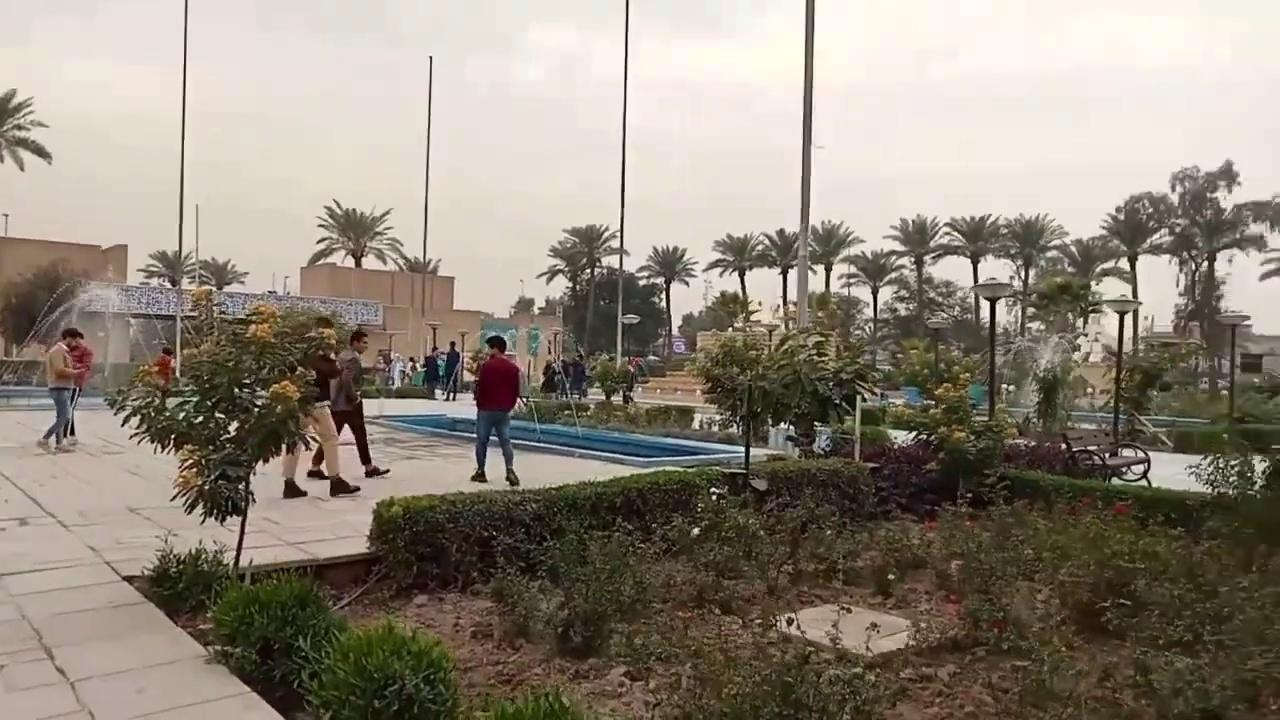car: (899, 386, 935, 410)
fountain: (359, 323, 792, 470), (1, 275, 384, 404), (989, 293, 1273, 453), (361, 403, 792, 469)
person: (280, 318, 361, 498), (306, 328, 391, 479), (470, 335, 522, 485), (35, 327, 81, 453), (60, 330, 93, 442), (151, 346, 175, 389)
tree: (103, 294, 340, 575), (684, 321, 879, 468), (1151, 158, 1267, 396), (688, 328, 786, 470), (536, 222, 630, 356), (1098, 195, 1171, 355), (1000, 326, 1086, 435), (996, 211, 1066, 338), (136, 247, 199, 378), (936, 212, 1007, 326), (841, 247, 906, 370), (882, 212, 945, 338), (0, 255, 84, 349), (634, 243, 698, 360), (306, 197, 404, 269), (702, 231, 773, 326), (1054, 235, 1122, 333), (758, 226, 807, 329), (806, 218, 864, 297), (0, 86, 52, 172), (1232, 192, 1279, 281), (196, 255, 248, 335), (393, 253, 441, 316), (136, 247, 198, 287), (705, 289, 761, 329), (196, 256, 248, 291), (393, 253, 441, 274)
